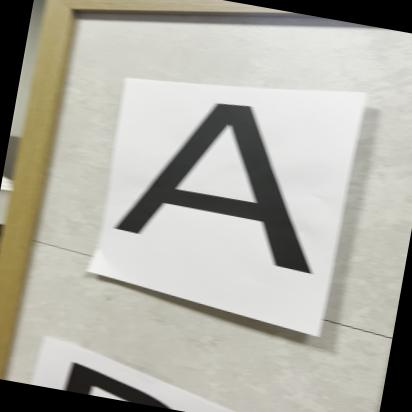seat: (110, 80, 351, 300)
